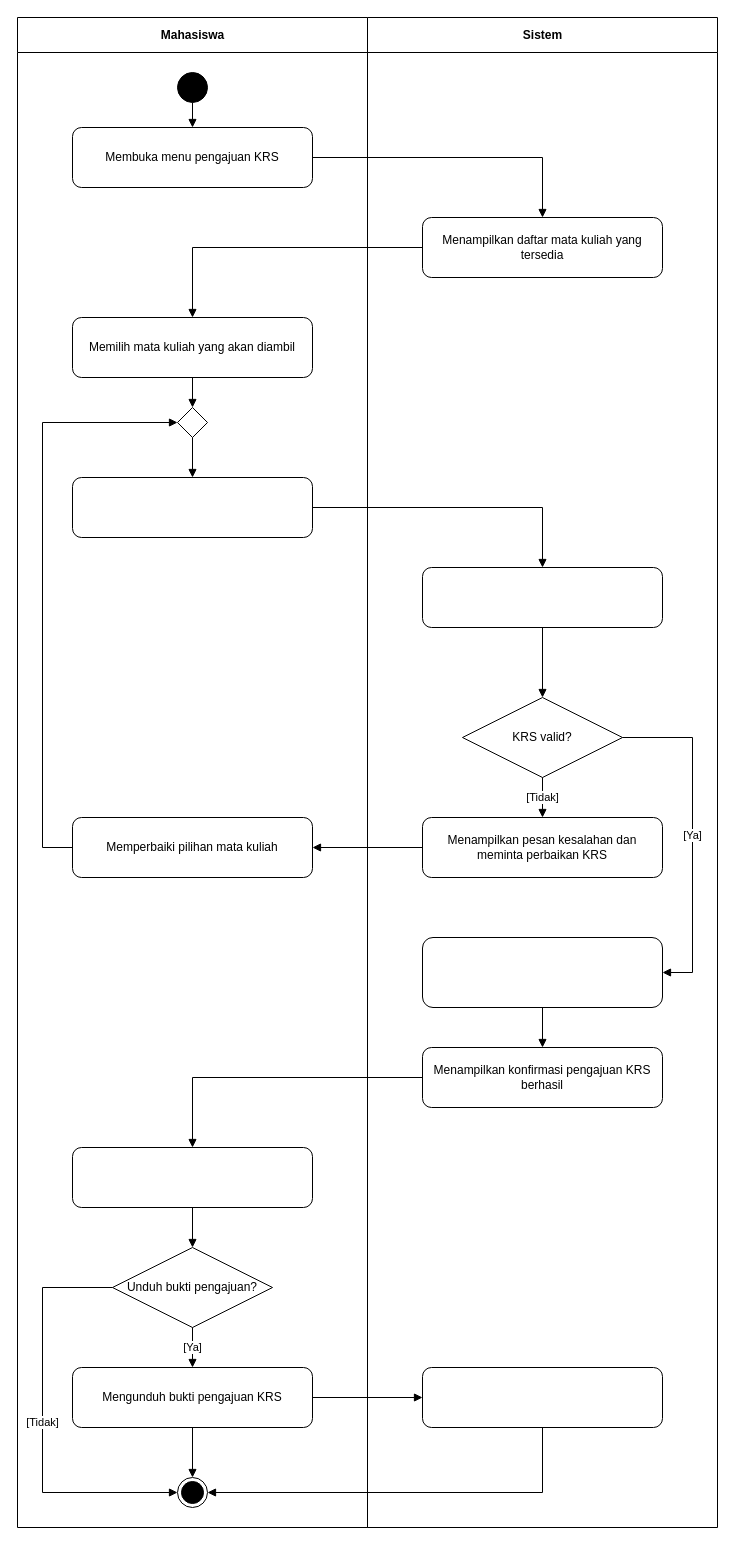
Image size: 735x1545. Some labels were removed from this diagram. Each missing label, with the centre of its shape:
"Memilih apakah akan mengunduh bukti pengajuan" belongs at [192,1177].
"Memvalidasi kelengkapan, prasyarat, dan bentrok jadwal KRS" belongs at [542,597].
"Mengirim pilihan mata kuliah untuk divalidasi" belongs at [192,507].
"Menyiapkan dan mengirimkan file bukti KRS" belongs at [542,1397].
"Menyimpan pengajuan KRS dengan status menunggu persetujuan dosen wali" belongs at [542,972].
